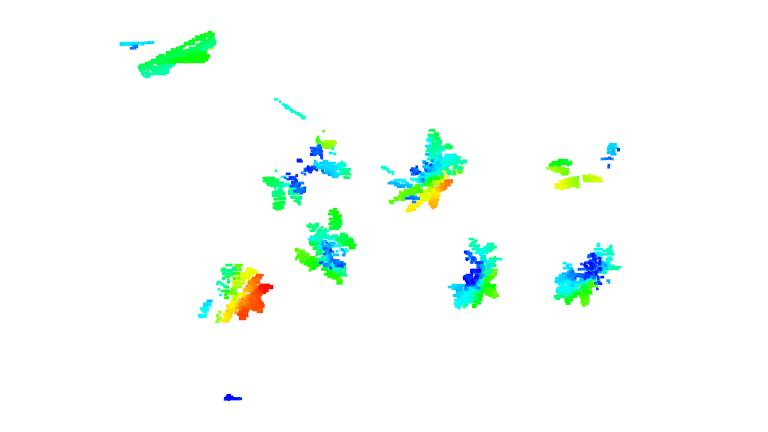chickpea: (384, 128, 472, 212), (261, 137, 350, 214), (291, 207, 360, 286), (197, 259, 278, 322), (549, 244, 622, 306), (449, 236, 506, 312), (546, 145, 621, 192)
